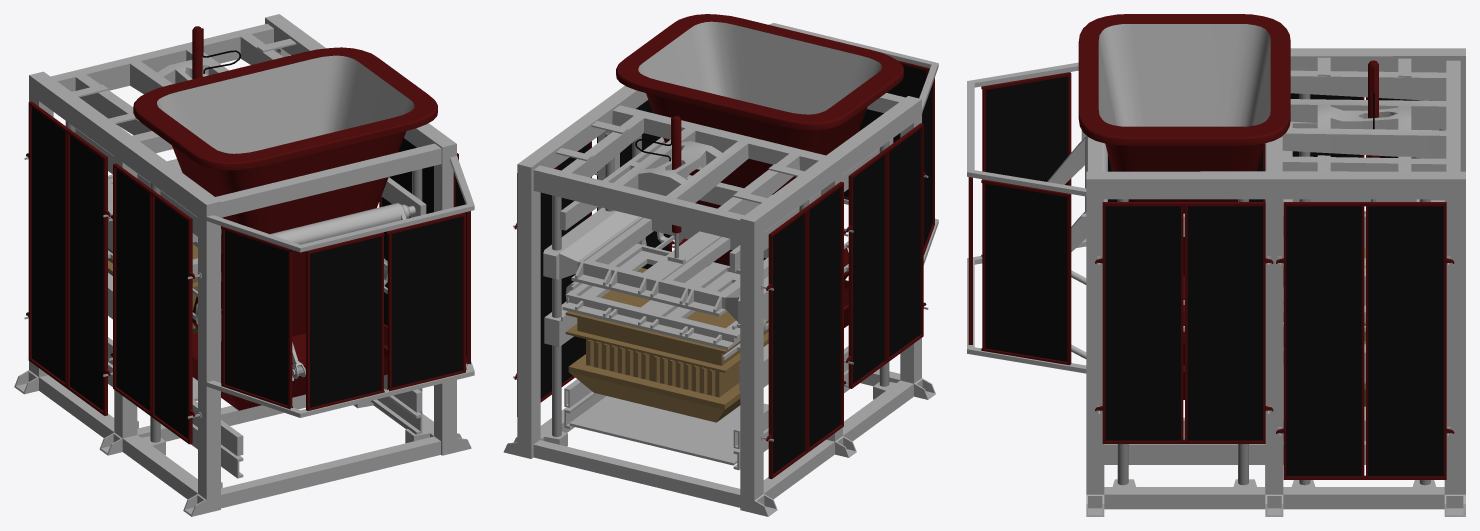
Rendered from SM_ProdLine_Press_B.FBX.
The picture shows the model from 3 angles, left to right: view 1: azimuth 30°, elevation 25°; view 2: azimuth 150°, elevation 25°; view 3: azimuth 270°, elevation 25°; orthographic projection. The views are drawn at different scales.
Visible parts, largest first — view 1: SM_ProdLine_Press_B_LOD0; view 2: SM_ProdLine_Press_B_LOD0; view 3: SM_ProdLine_Press_B_LOD0.
Part boxes in pixels (bbox=[...]): SM_ProdLine_Press_B_LOD0: bbox=[14, 14, 474, 516]; SM_ProdLine_Press_B_LOD0: bbox=[503, 14, 938, 516]; SM_ProdLine_Press_B_LOD0: bbox=[967, 14, 1465, 516].
Size of the model in its own units: 227 by 327 by 276.
